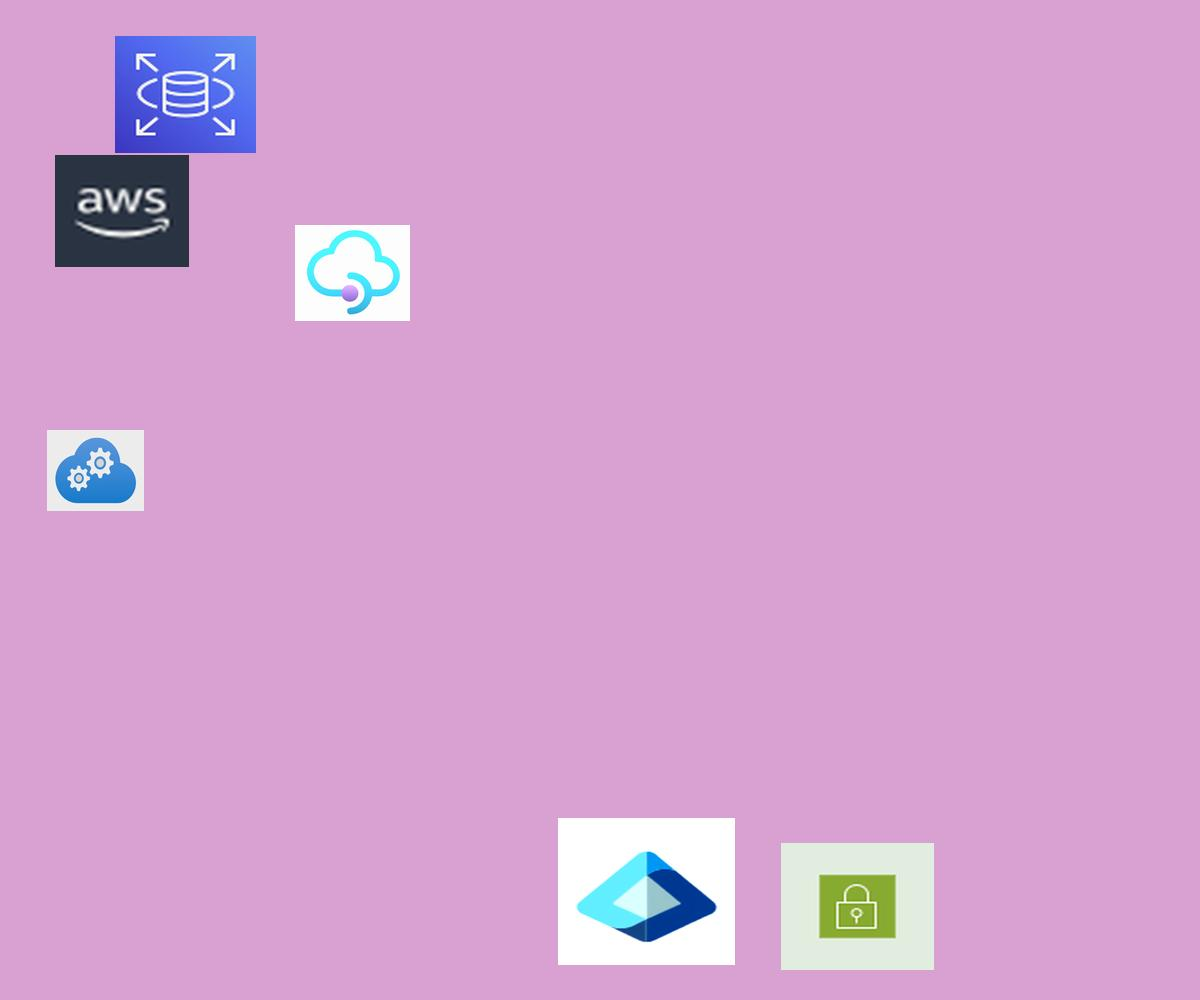AWS-Cloud-logo: (55, 155, 189, 267)
AWS-Public-subnet: (781, 843, 934, 970)
AWS-RDS: (115, 36, 256, 153)
Azure_api_gateway: (295, 225, 410, 321)
Azure_cloud_services: (47, 430, 144, 511)
Azure_microsoft_entra: (558, 818, 735, 965)
